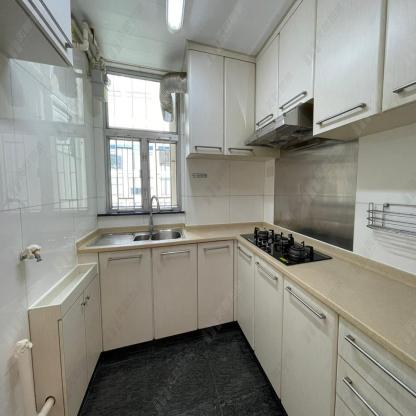Cupboard: (187, 0, 416, 153), (234, 239, 416, 416), (99, 241, 237, 351), (185, 41, 256, 161)
Exhaust Hood: (247, 107, 350, 153), (244, 100, 345, 146)
Faucet: (148, 193, 161, 226)
Sink: (80, 225, 189, 249), (87, 230, 188, 242)
Stove: (228, 225, 341, 278), (240, 225, 331, 268)
